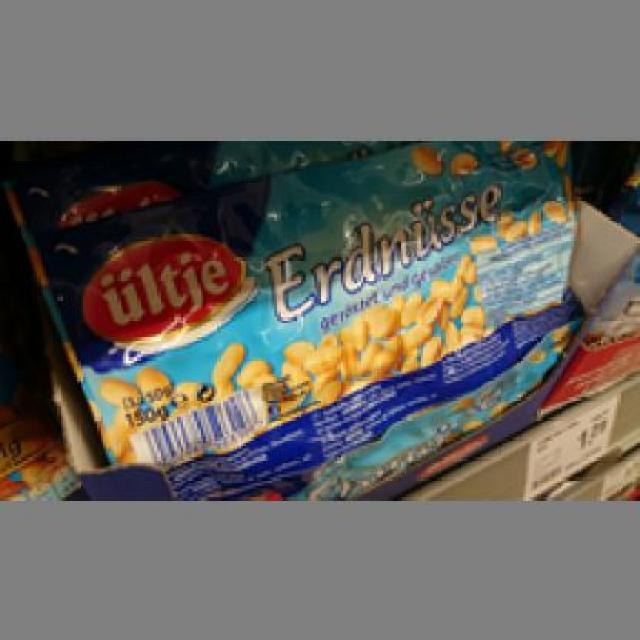Nuts: (31, 137, 578, 497)
